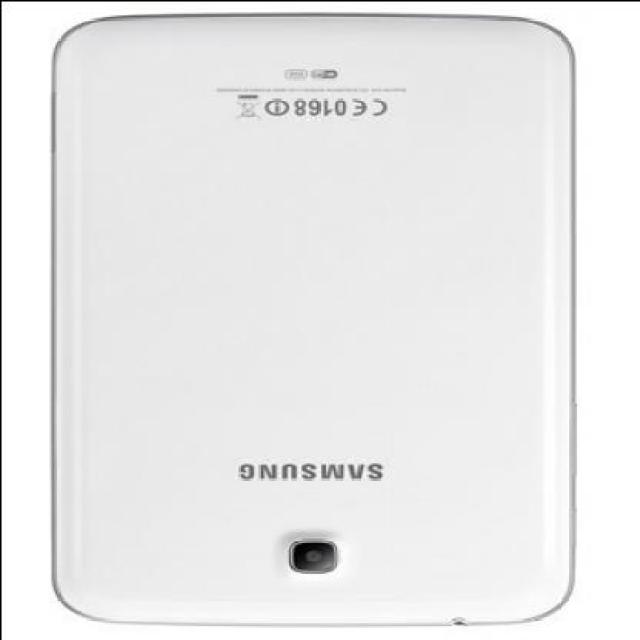tablet: (36, 0, 583, 627)
